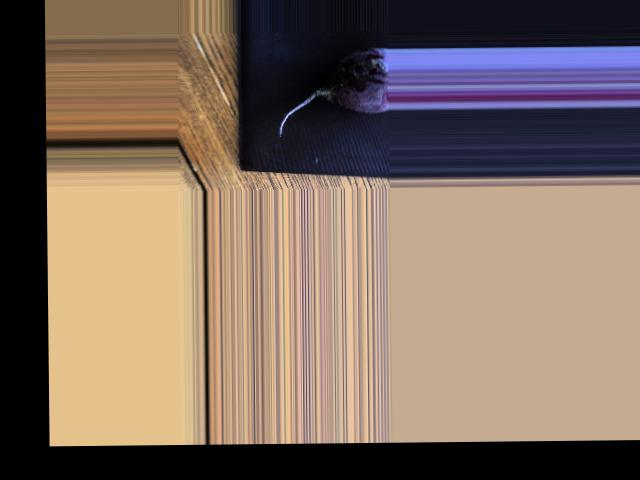beet: (277, 47, 389, 136)
